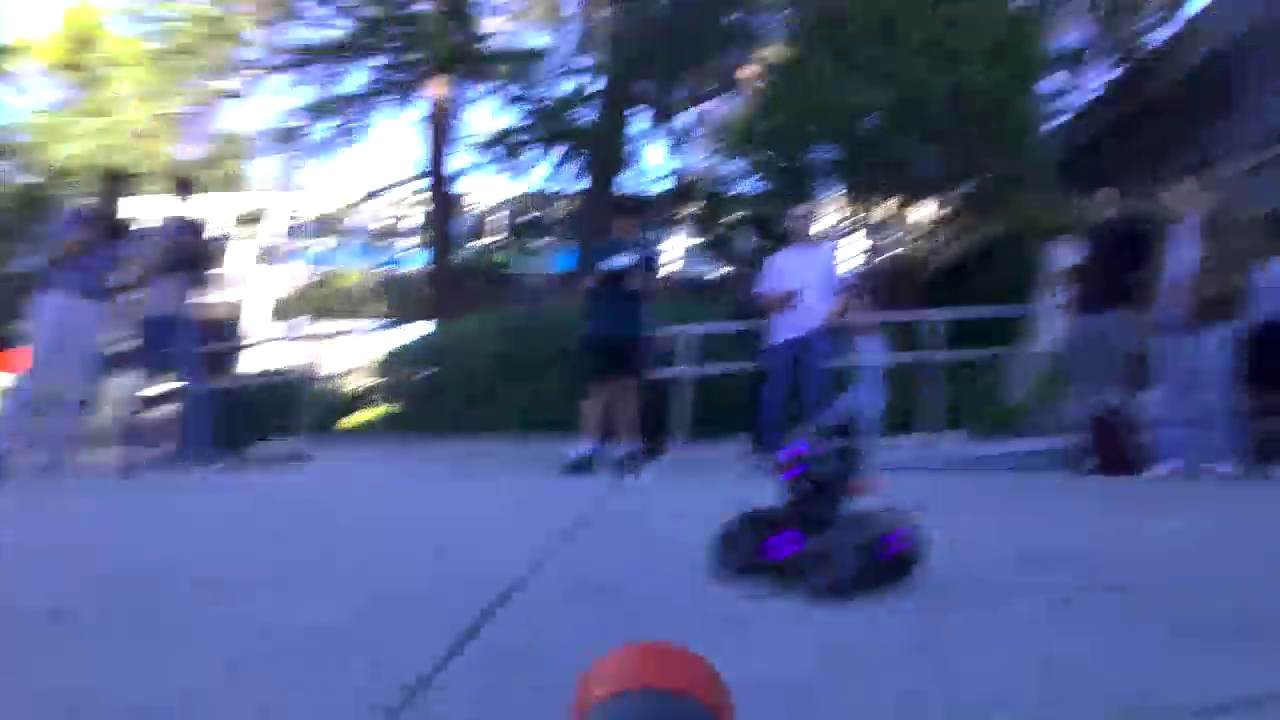robot: (710, 416, 931, 613)
